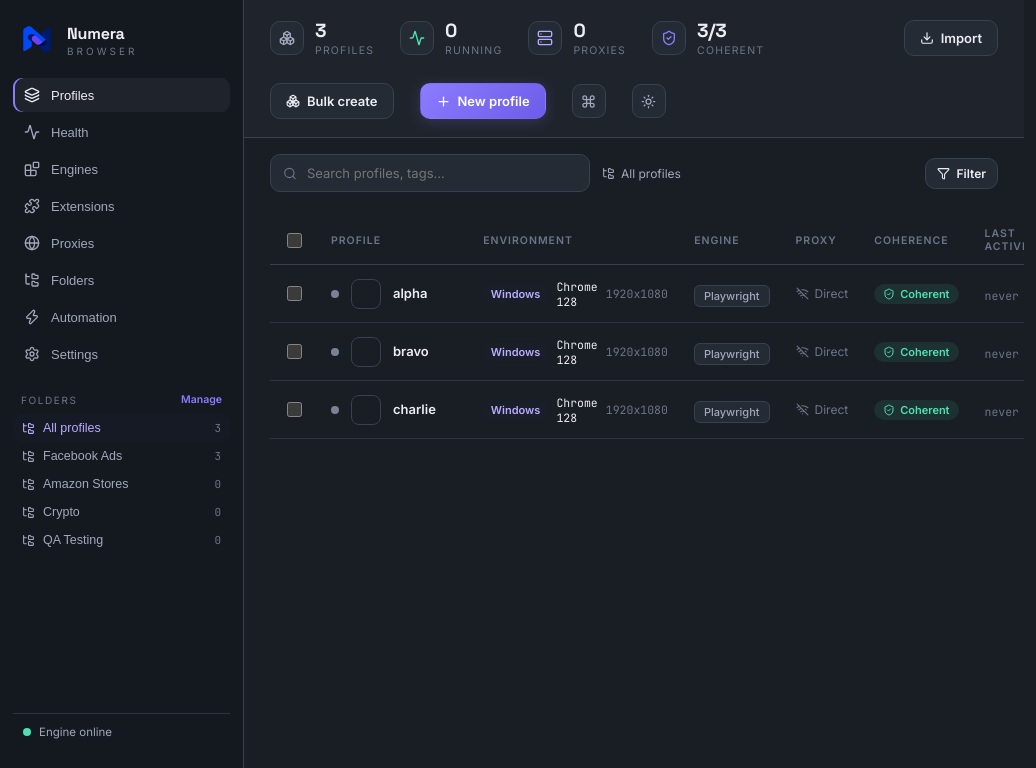
bulk warm-up reports failures instead of clearing the selection
Expected: the text "Engine online" is shown, 39,725 -> 112,739
Expected: the text "alpha" is shown, 393,284 -> 427,300
Click the checkbox in the row of "Environment". click: (294, 240)
box: 287,232 -> 302,248
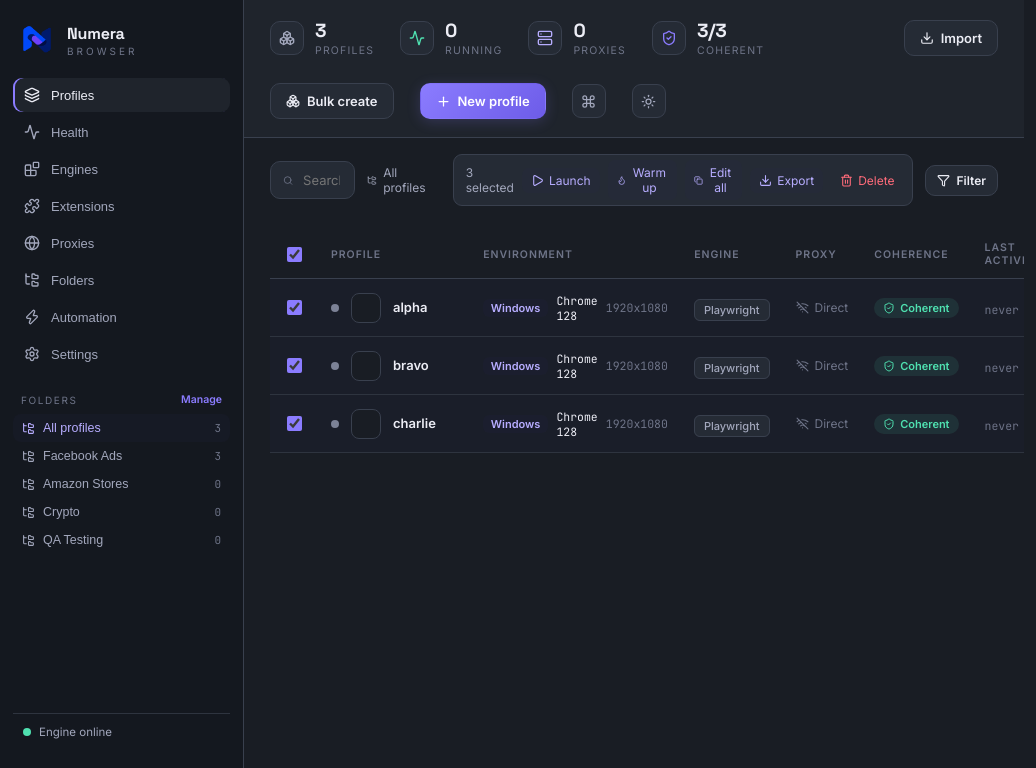
Click the button "Warm up". click: (642, 180)
box: 608,160 -> 677,200
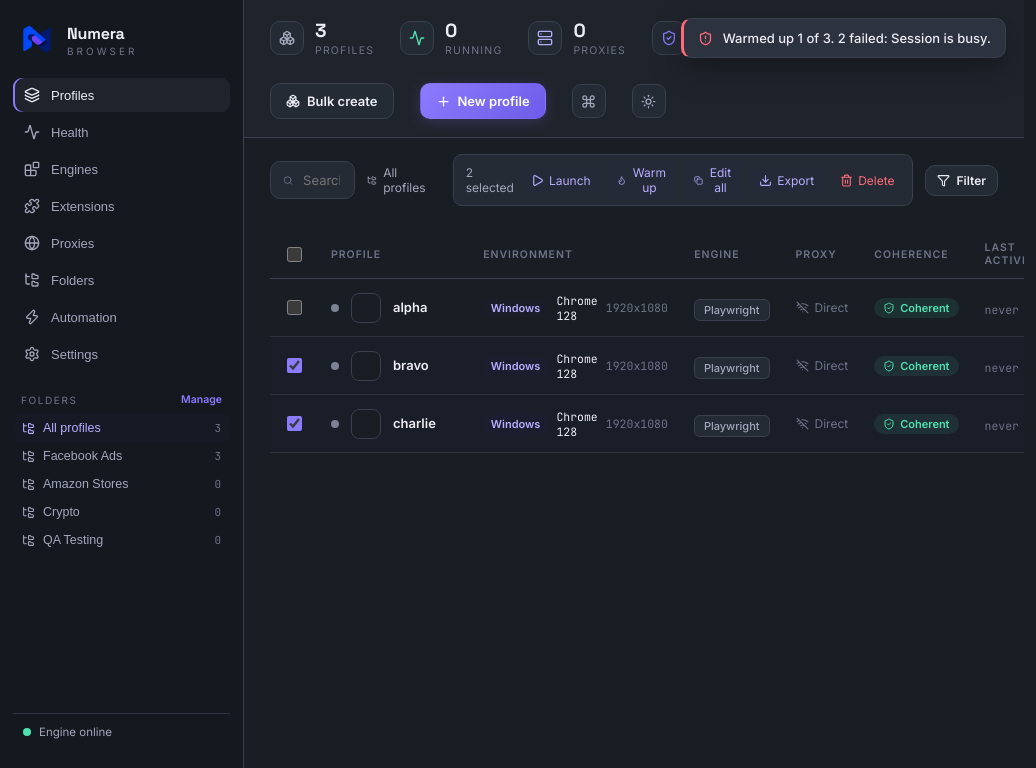
Now the text "Warmed up 1 of 3. 2 failed: Session is busy." is shown, box 723,30 -> 991,46
Now the text "2 selected" is shown, box 466,165 -> 514,195
